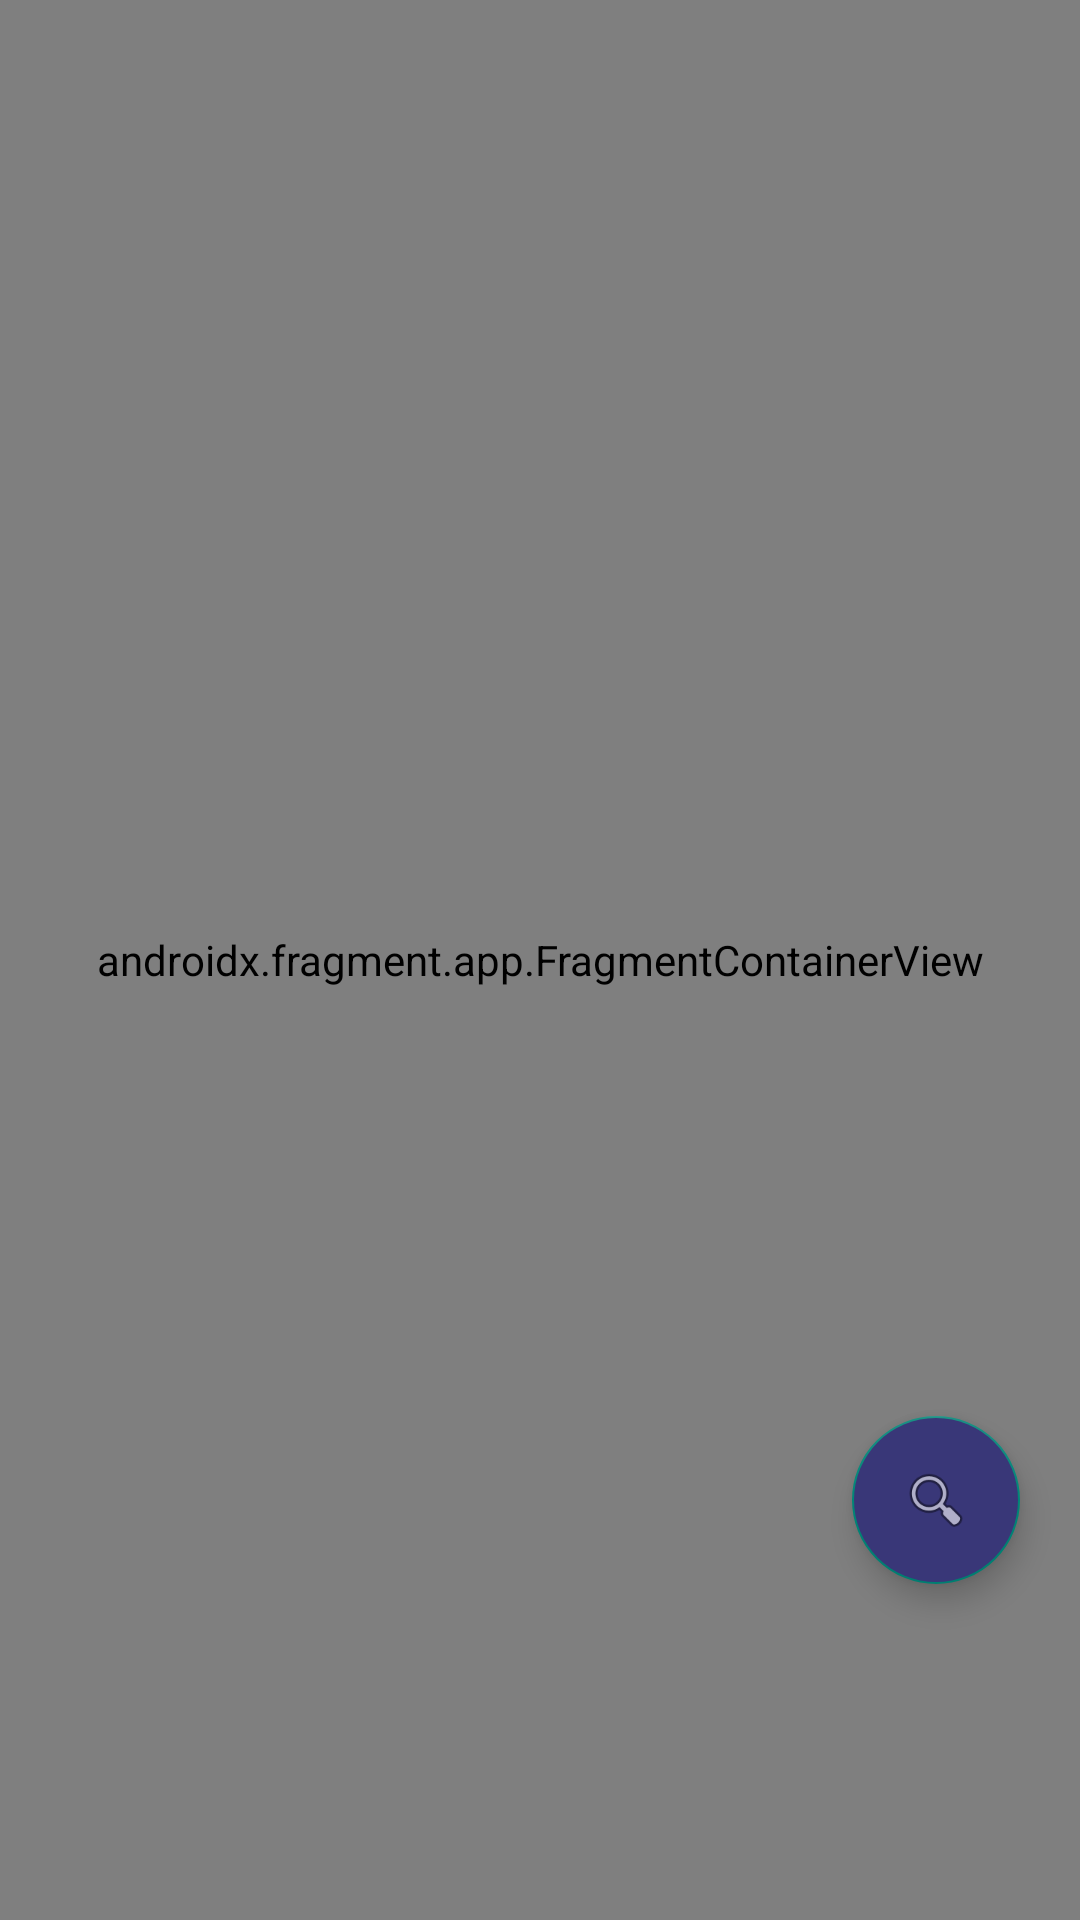

Icons on this 1080x1920 Android screen, each with its box as (x1, y1, x2, y2):
search: (852, 1416, 1020, 1584)
